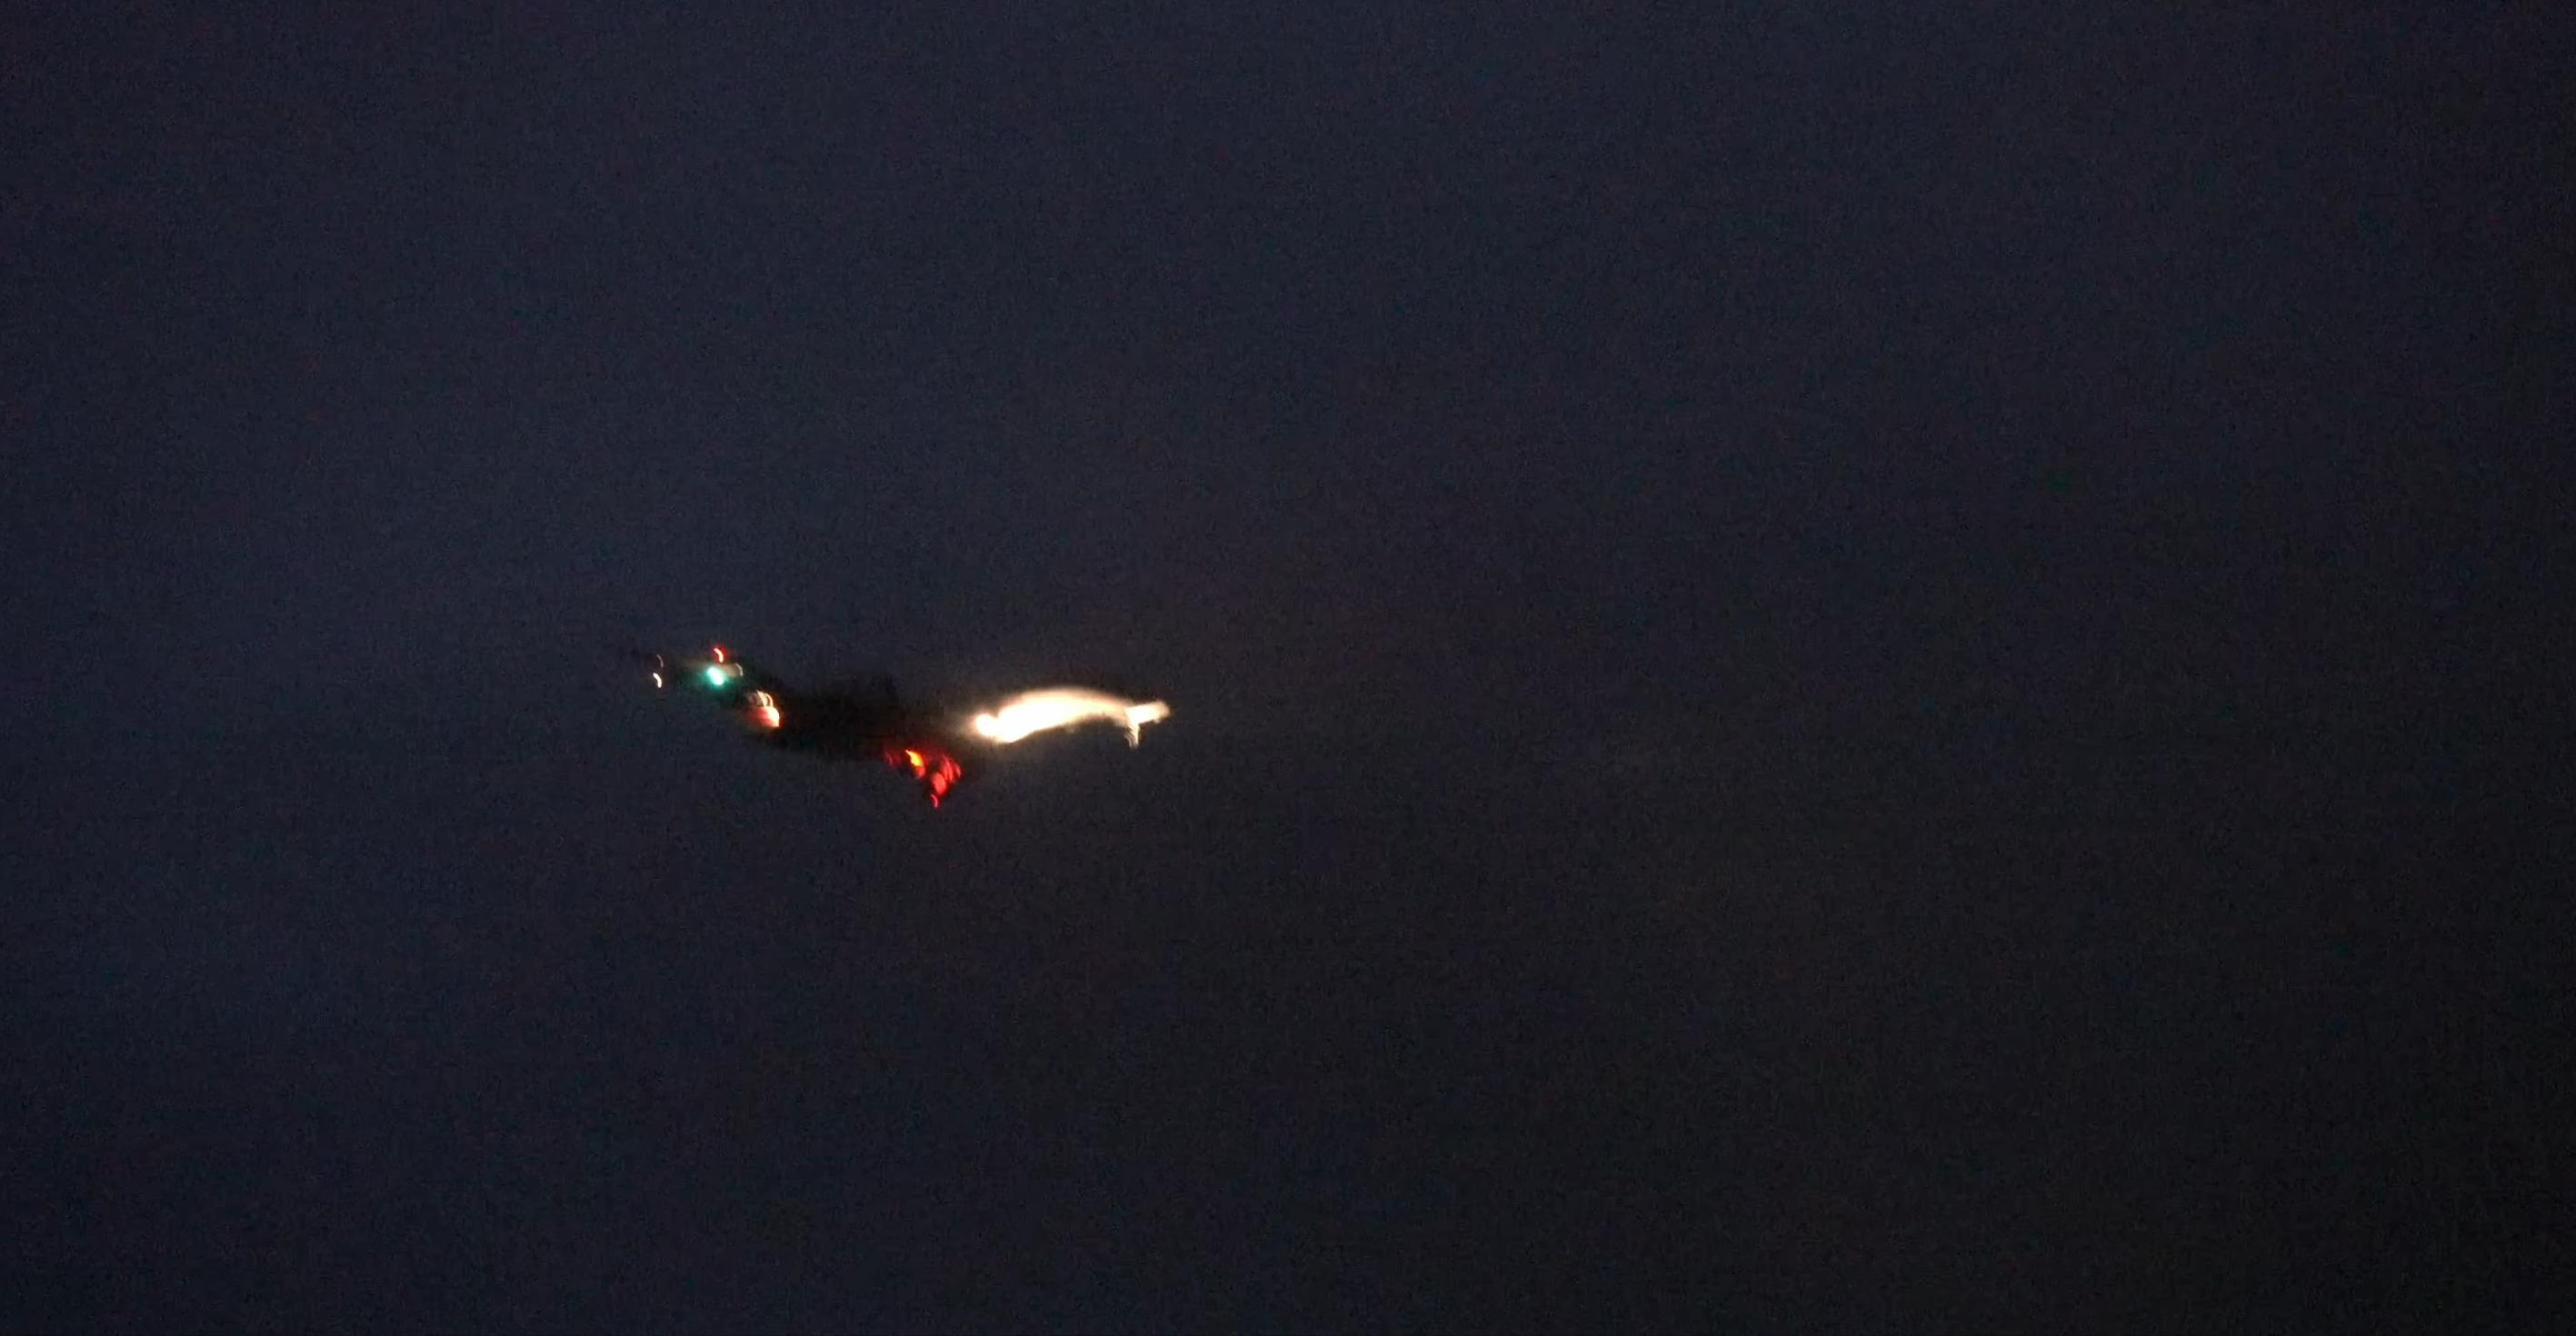Plane: (554, 581, 1160, 842)
